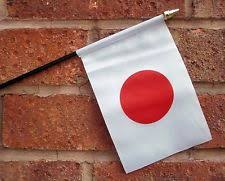Japanese Flag: (71, 11, 214, 174)
